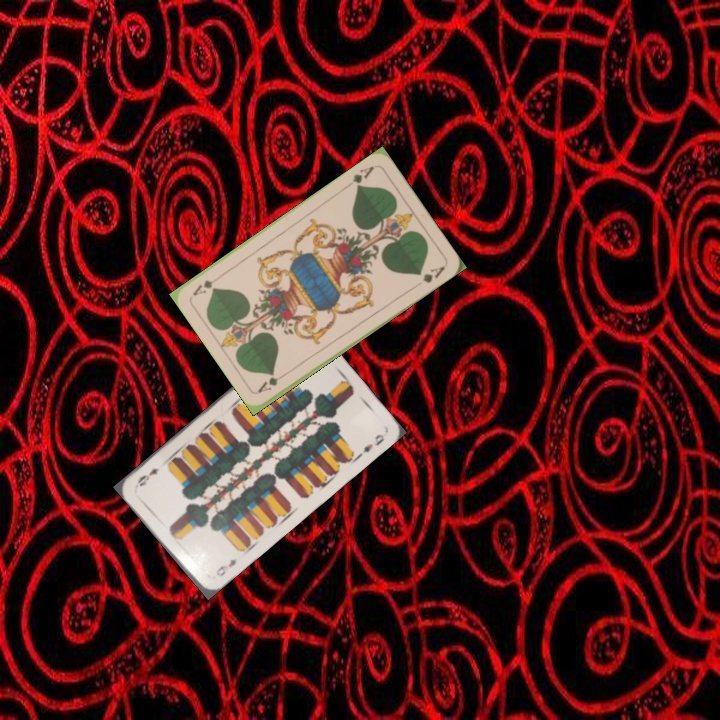E9: (212, 555, 239, 579)
GA: (254, 368, 291, 395), (348, 162, 377, 191)
